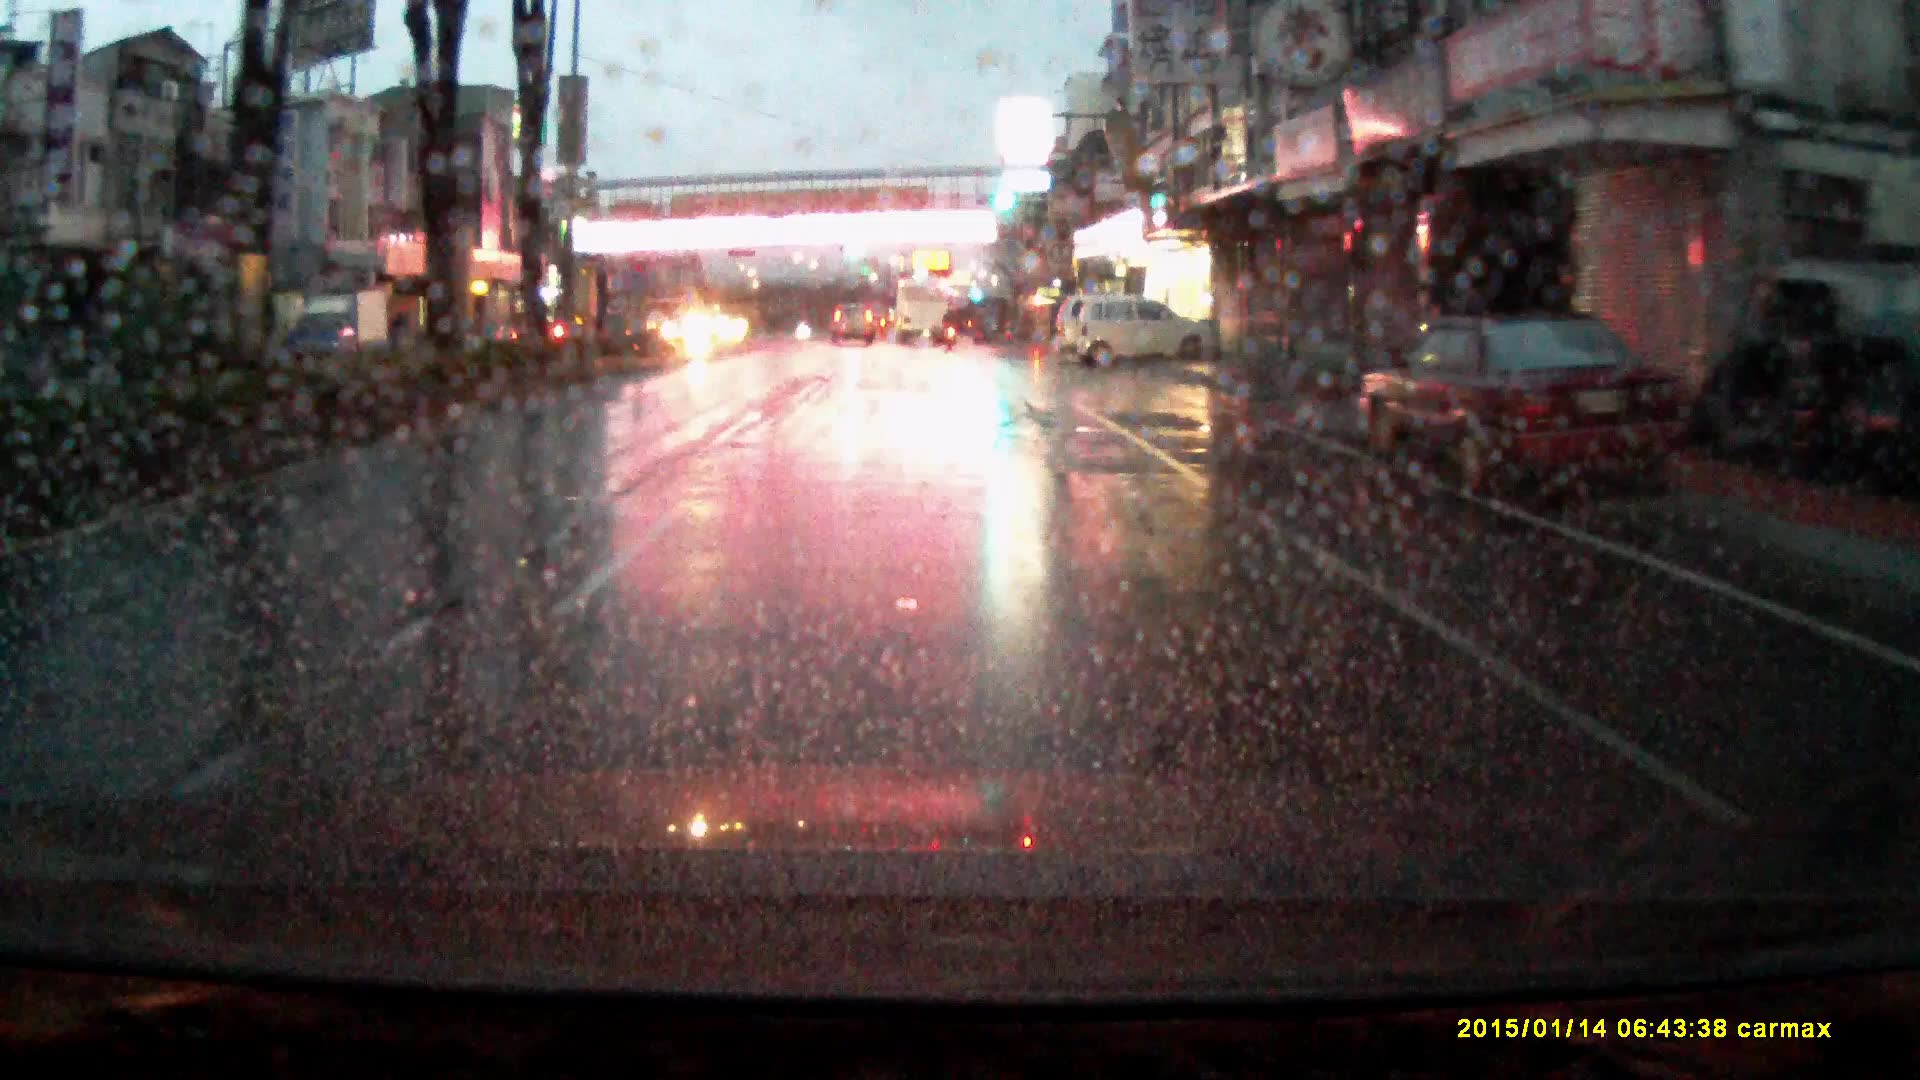vehicle: (1360, 319, 1685, 502), (1072, 294, 1221, 375), (287, 286, 390, 368), (1055, 295, 1116, 352), (895, 281, 945, 345), (832, 297, 880, 340)
